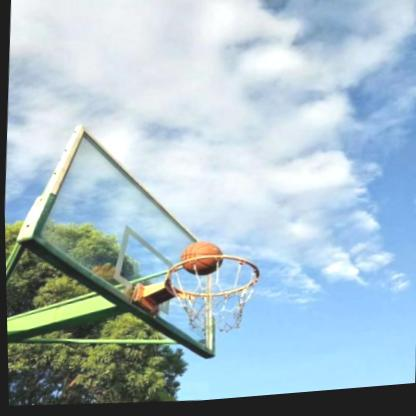basketball: (180, 243, 222, 281)
rim: (154, 249, 275, 354)
